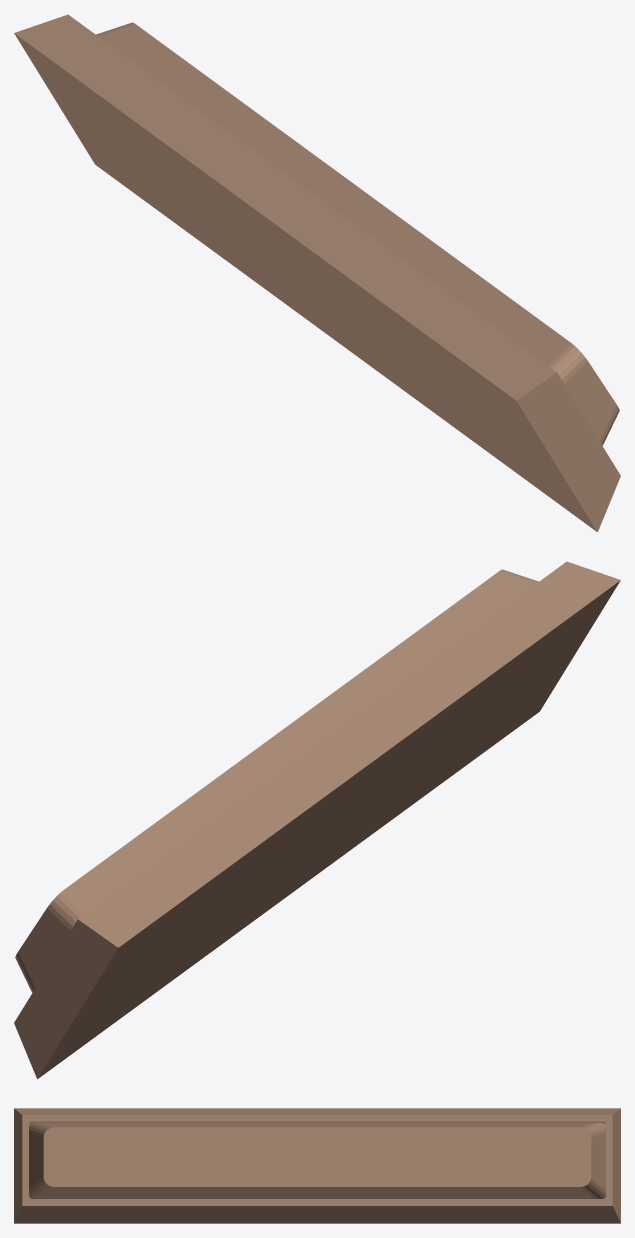
The model's file is SpaceBar.fbx.
The picture shows the model from 3 angles, top to bottom: view 1: azimuth 30°, elevation 25°; view 2: azimuth 150°, elevation 25°; view 3: azimuth 270°, elevation 25°; orthographic projection. The views are drawn at different scales.
Visible parts, largest first — view 1: Cube.001, Cube; view 2: Cube.001, Cube; view 3: Cube, Cube.001.
Boxes of the visible parts, x1,y1,x2,y2 form: Cube.001: (14, 14, 620, 532); Cube: (96, 22, 619, 445); Cube.001: (14, 561, 620, 1079); Cube: (15, 569, 538, 992); Cube: (29, 1122, 605, 1198); Cube.001: (14, 1108, 620, 1223).
Bounding box in the file's own units: 25.27 × 29.8 × 166.
